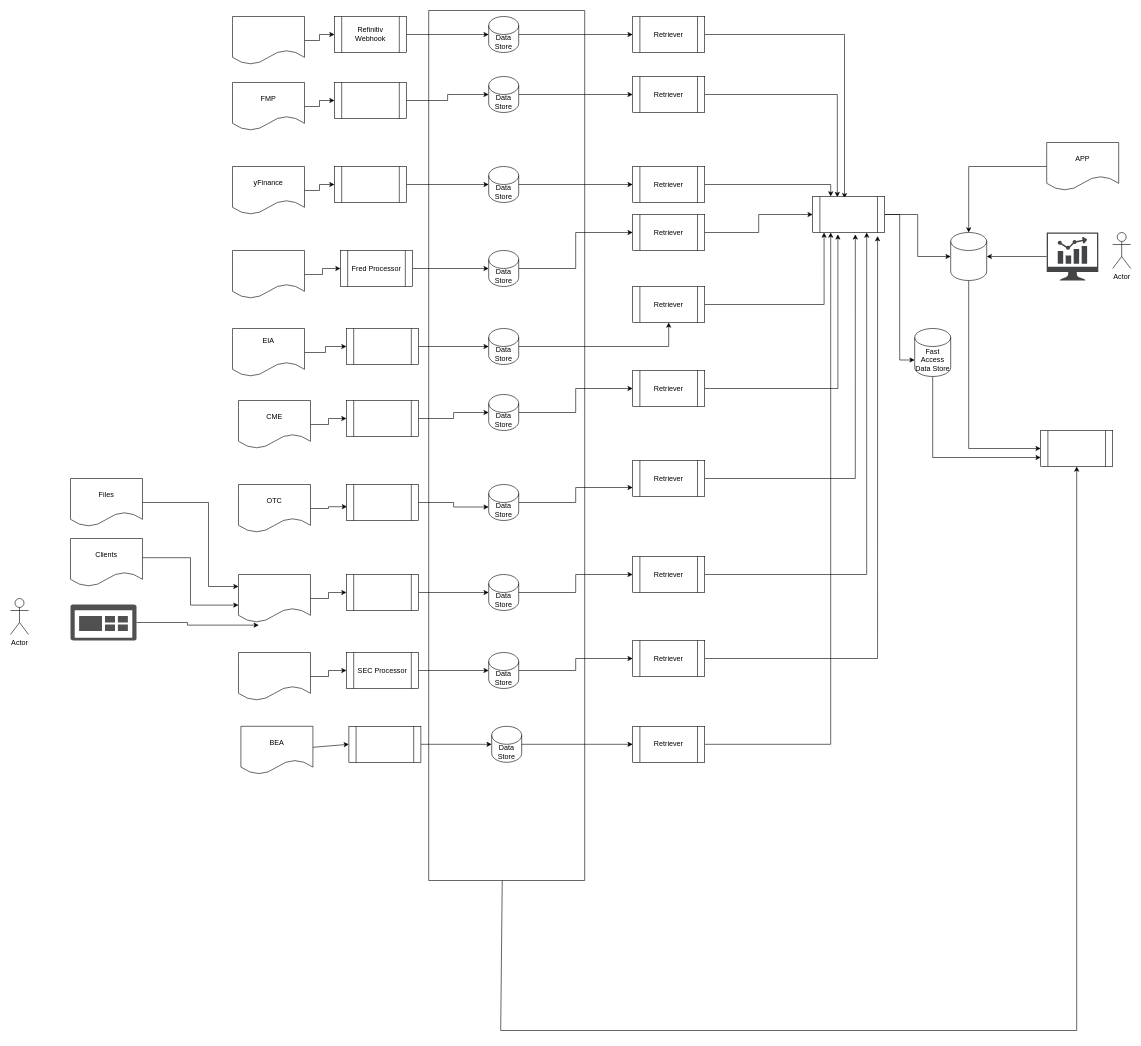
This 1141x1046 diagram has some shape labels left out. The centre of each missing label's shape, as x and y in pixels:
"BEA Processor" belongs at pixel 384 744.
"CME Processor" belongs at pixel 382 418.
"Data warehouse" belongs at pixel 968 256.
"EIA Processor" belongs at pixel 382 346.
"FMP Processor" belongs at pixel 370 100.
"Fred" belongs at pixel 268 274.
"Generic Processor" belongs at pixel 382 592.
"Ingester" belongs at pixel 274 598.
"ML/DL/RL/Custom Librairies" belongs at pixel 1076 448.
"OTC Processor" belongs at pixel 382 502.
"Refinitiv" belongs at pixel 268 40.
"SEC" belongs at pixel 274 676.
"Transformer" belongs at pixel 848 214.
"yFinance Processor" belongs at pixel 370 184.
